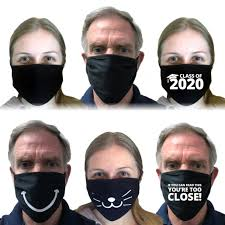cloth_mask: (84, 52, 141, 104), (9, 62, 65, 106)
